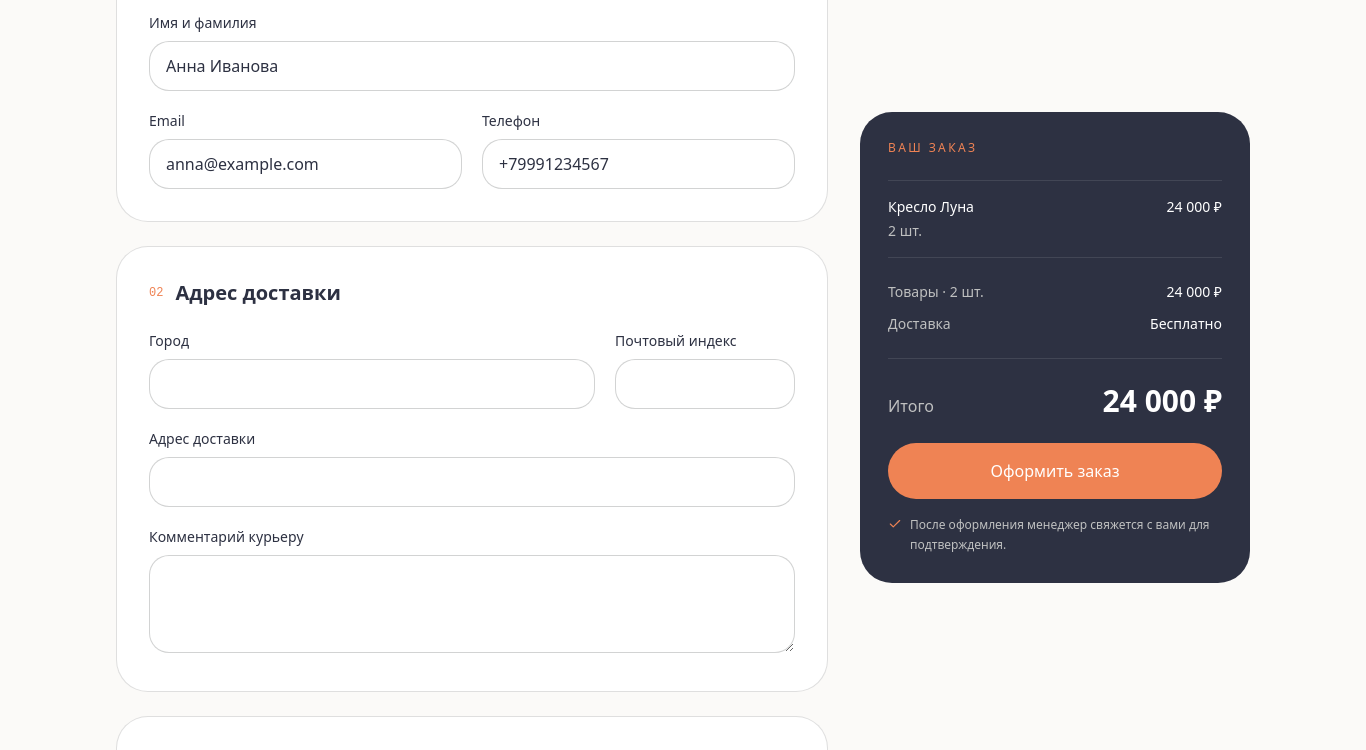
it: CheckoutPage › refreshes the cart and keeps a safe way back after a checkout conflict
(page scrolled)
Type "Москва" into the field labelled "Город".
click(372, 384); type("Москва")  # box x1=149 y1=359 x2=595 y2=409
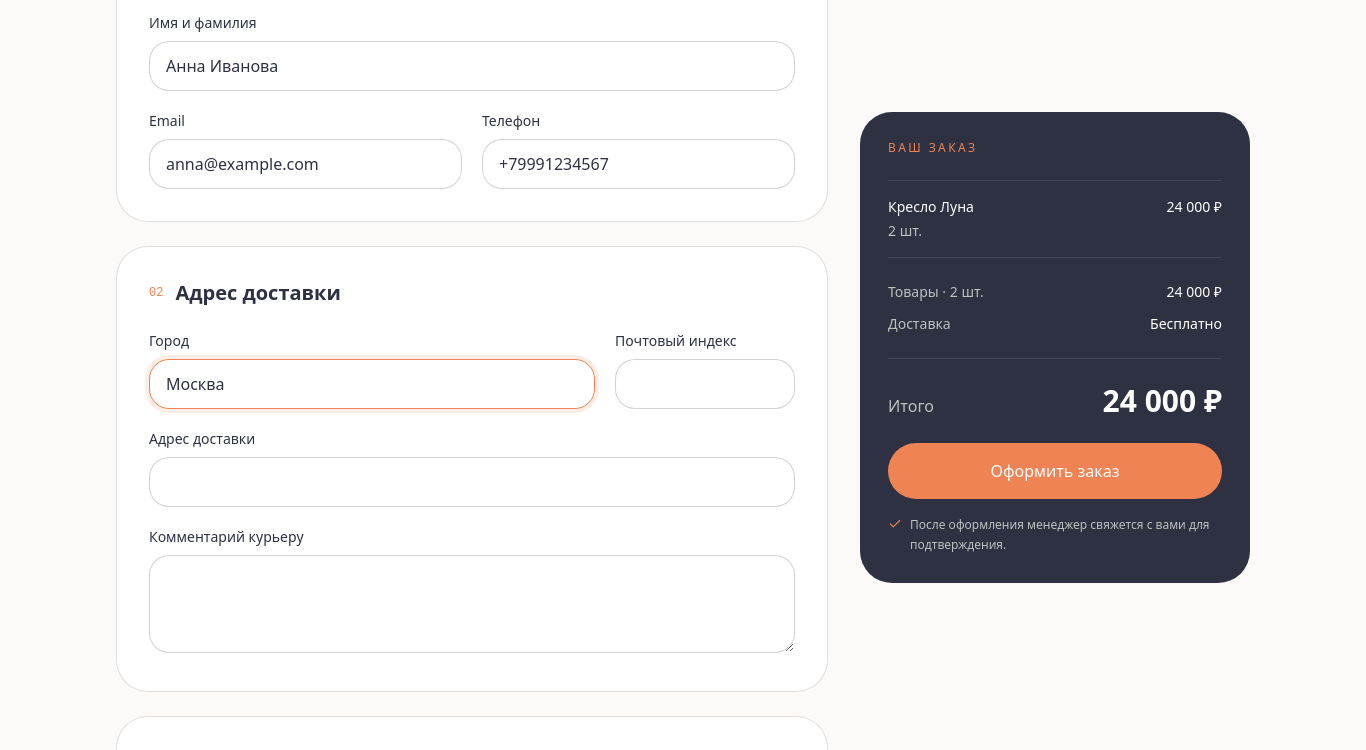
Type "Тверская, 10" into the field labelled "Адрес доставки".
click(472, 482); type("Тверская, 10")  # box x1=149 y1=457 x2=795 y2=507
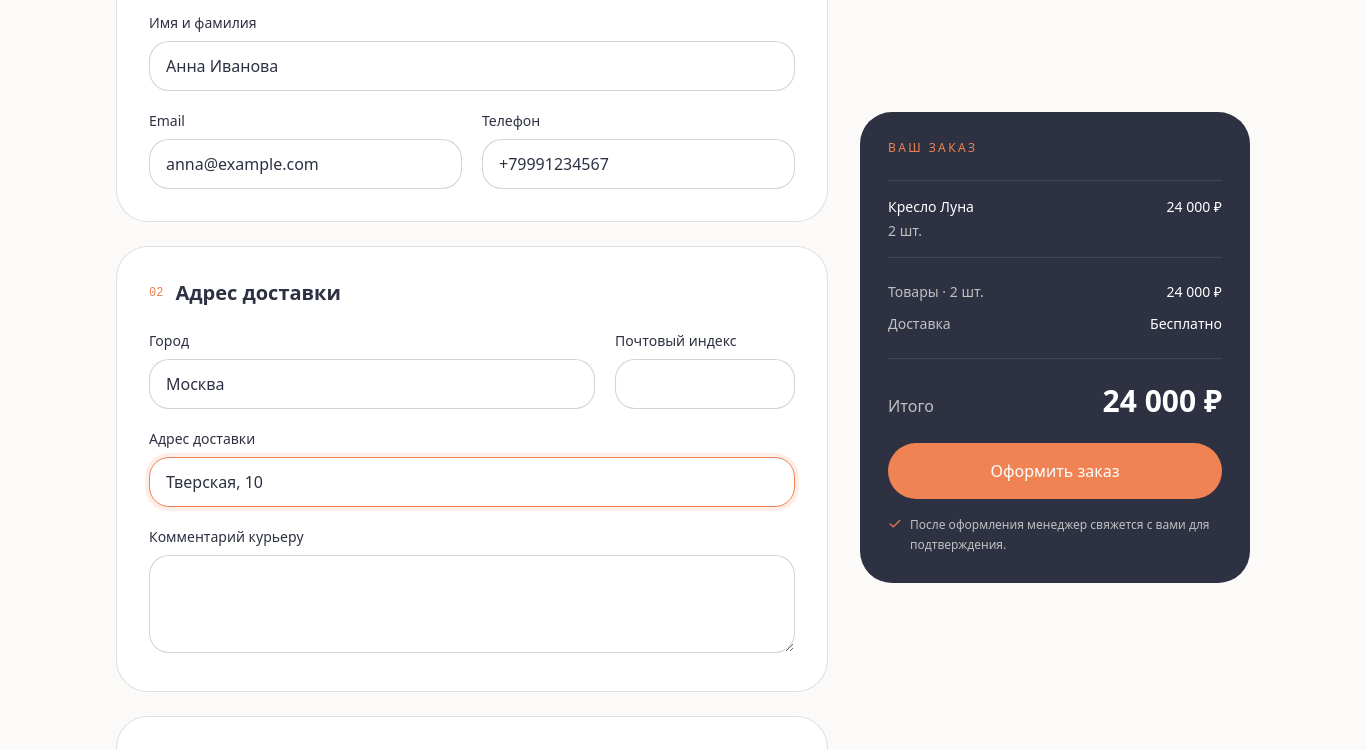
Click the button "Оформить заказ".
click(1055, 471)  # box x1=888 y1=443 x2=1222 y2=499
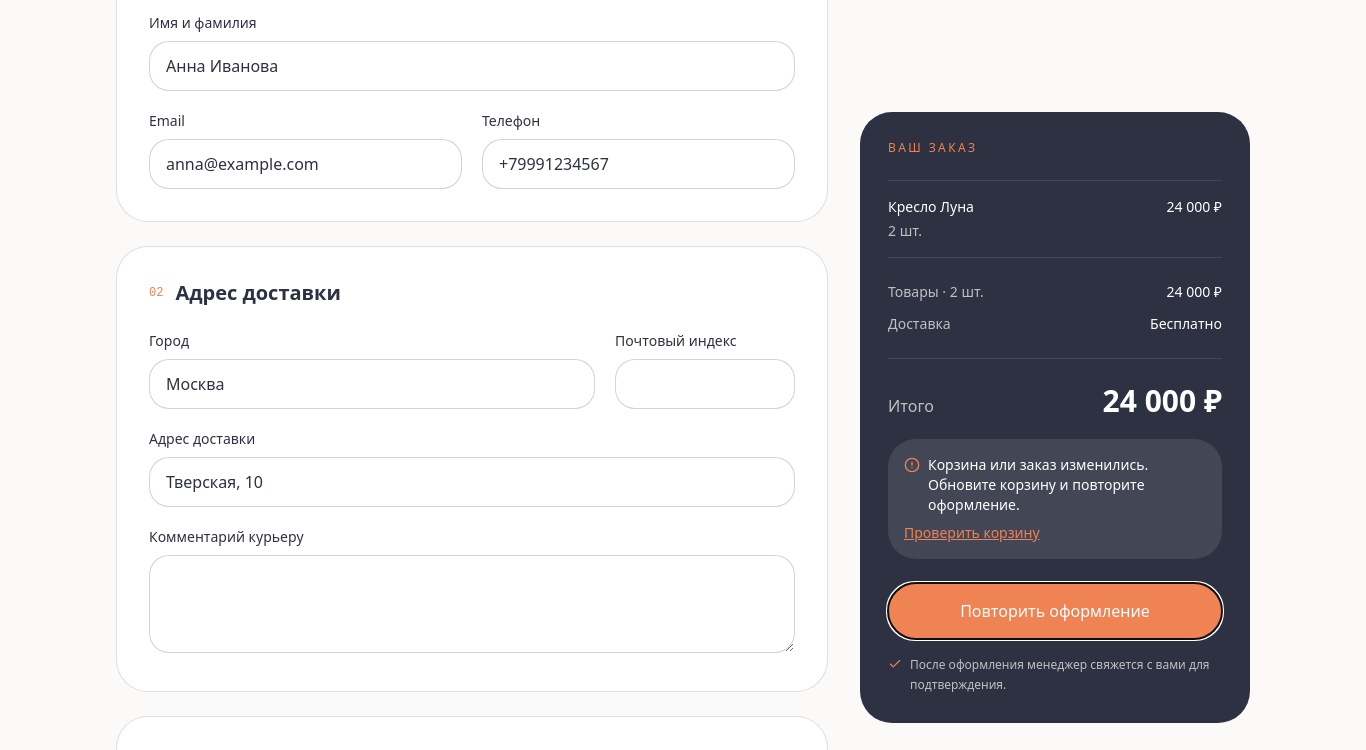
Now the message shows "Корзина или заказ изменились", box x1=928 y1=455 x2=1148 y2=514
